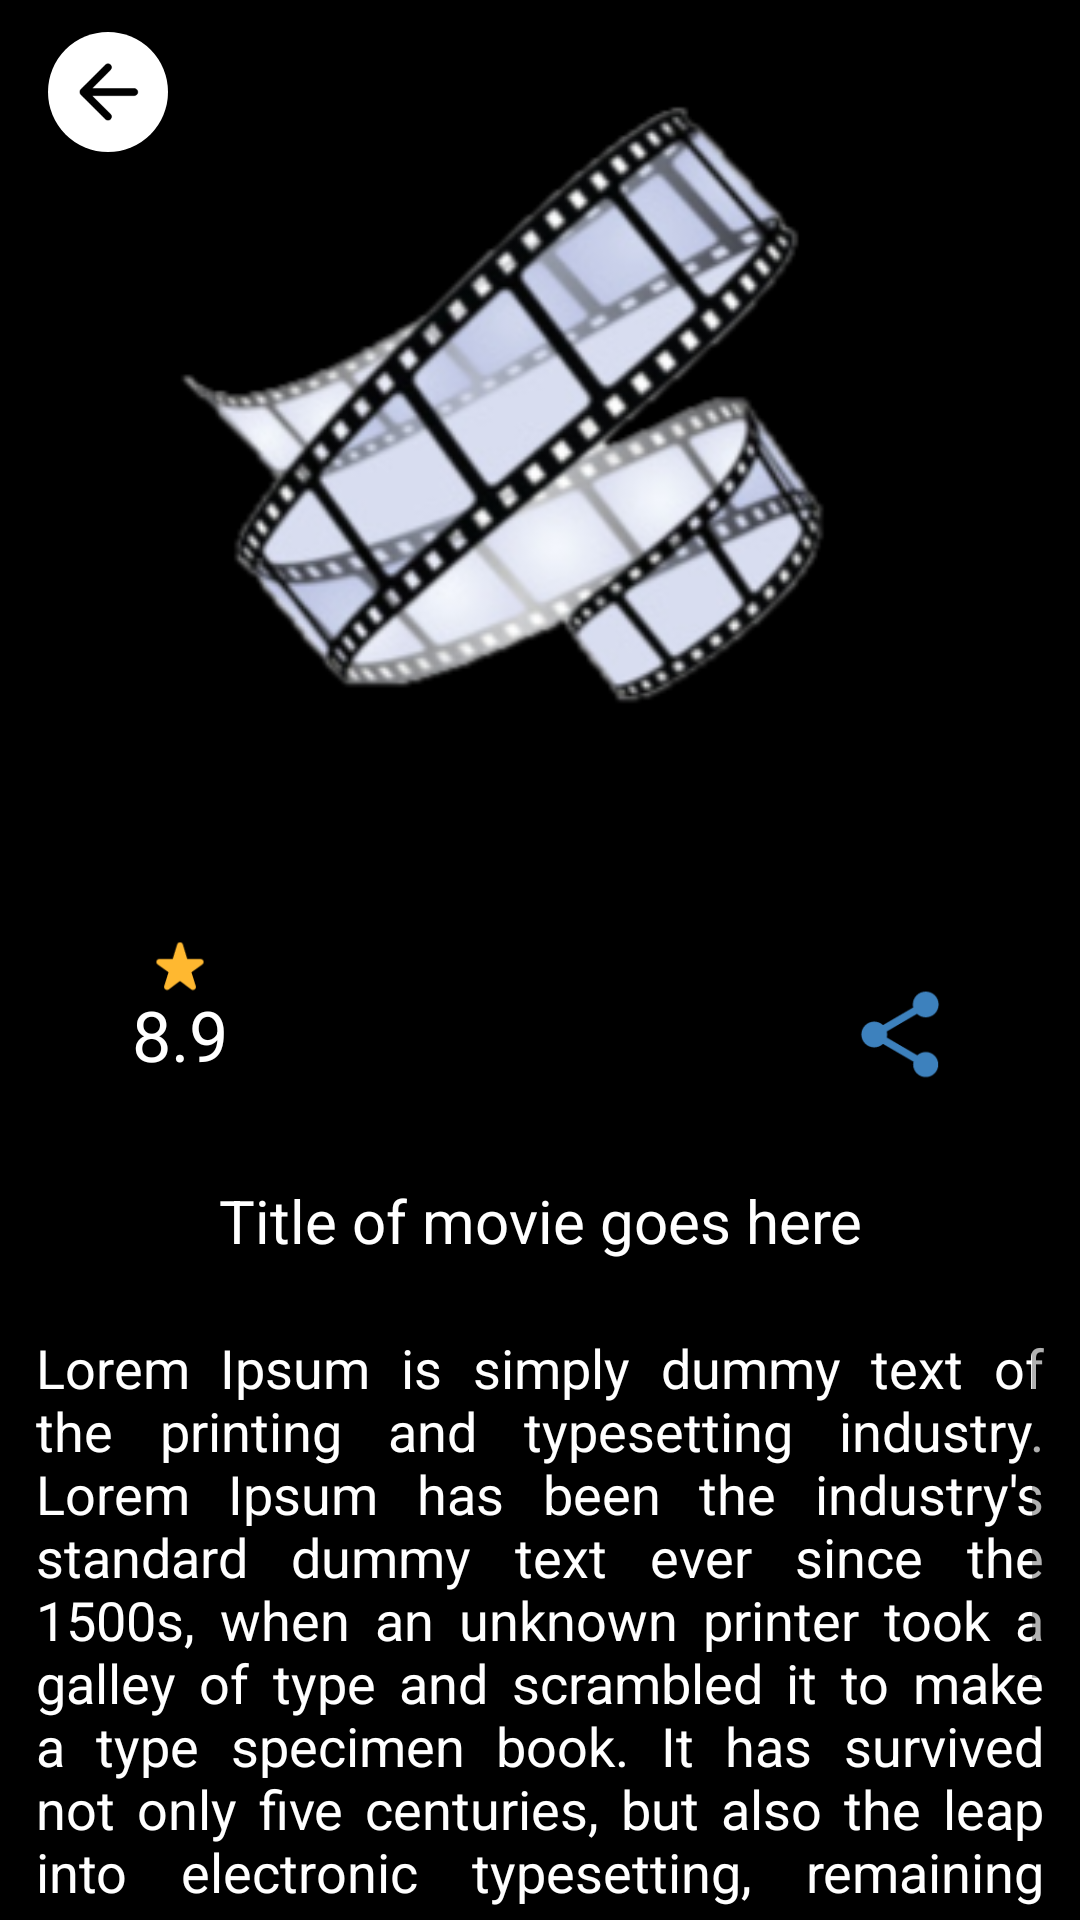

Icon click points for this 1080px x 1920px phone screenshot, format (x,y):
arrow back: (108,92)
share: (900,1034)
star rate: (180,966)
